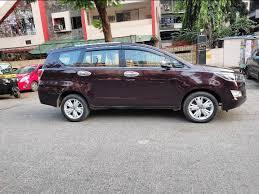non-ambulance: (38, 43, 245, 122), (16, 64, 41, 90), (0, 63, 19, 97), (245, 50, 258, 79)
